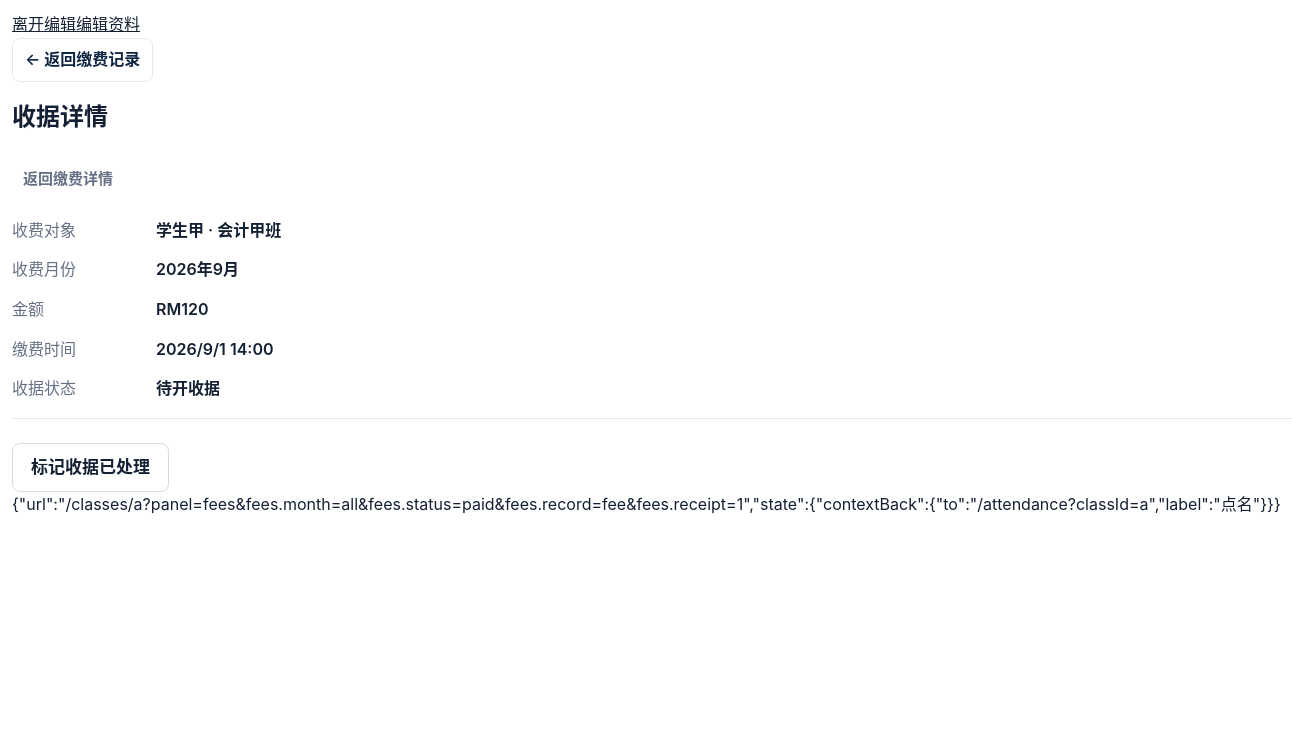
Test: restores the classes URL, filters and source after a real edit/save, and refreshes receipt identity without generation
The image size is (1292, 732).
expect the text "学生甲 · 会计甲班" is shown: met, box [156,220,281,240]
Click the link "编辑资料" at (108, 24), box [76,14,140,34]
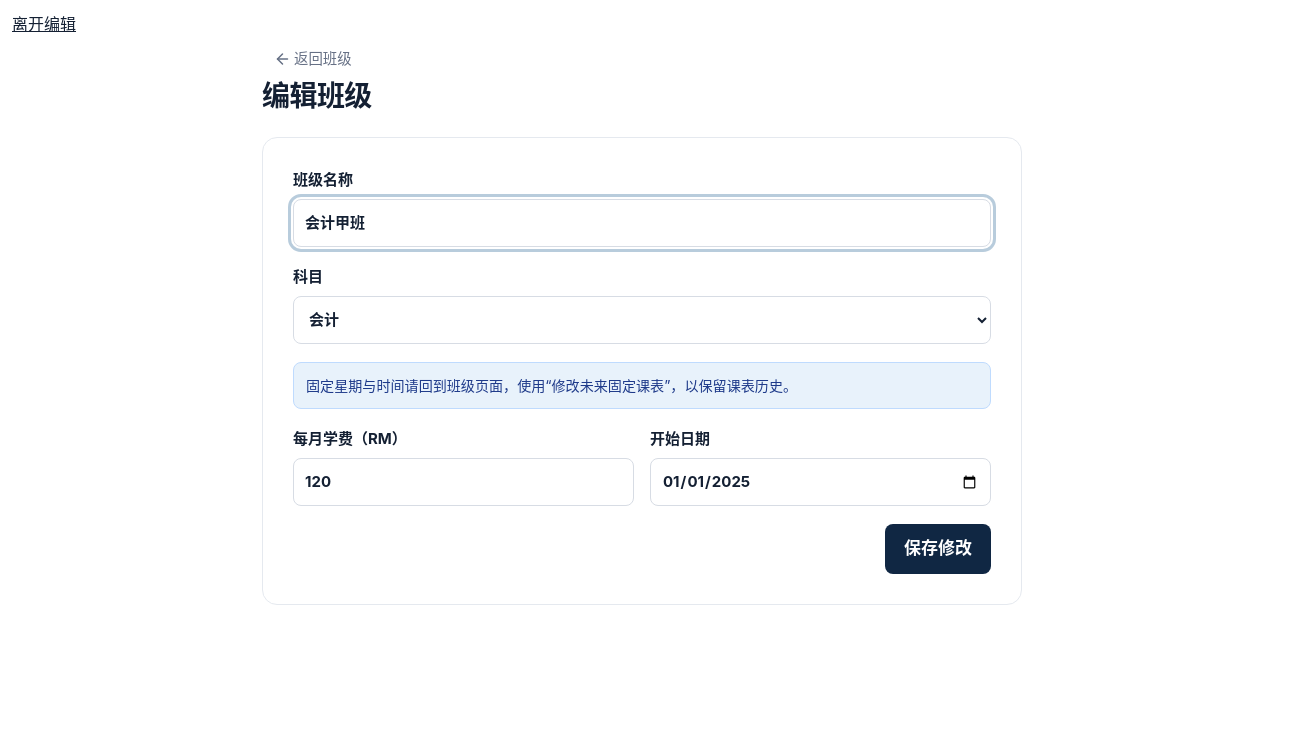
Replace the text in the field labelled "班级名称" with "新身份" at (642, 223), box [293,199,991,247]
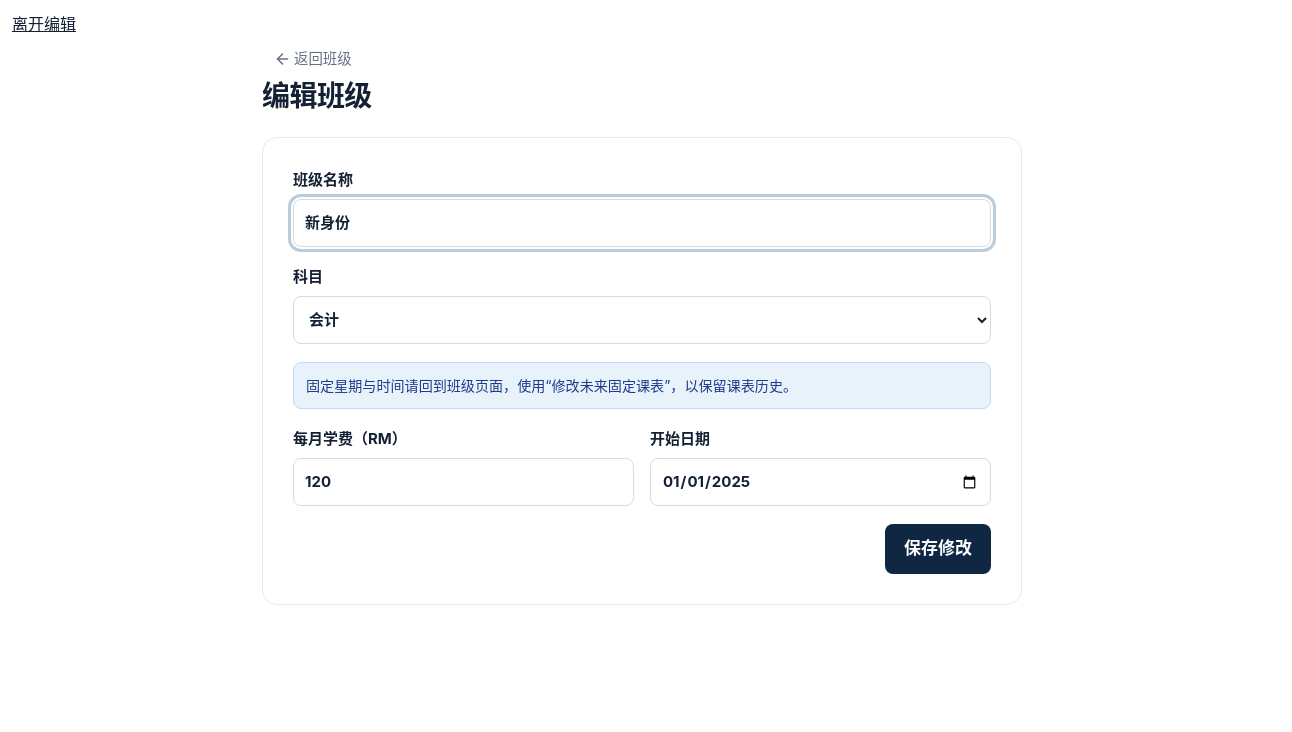
Click the button "保存修改" at (938, 549), box [885,524,991,574]
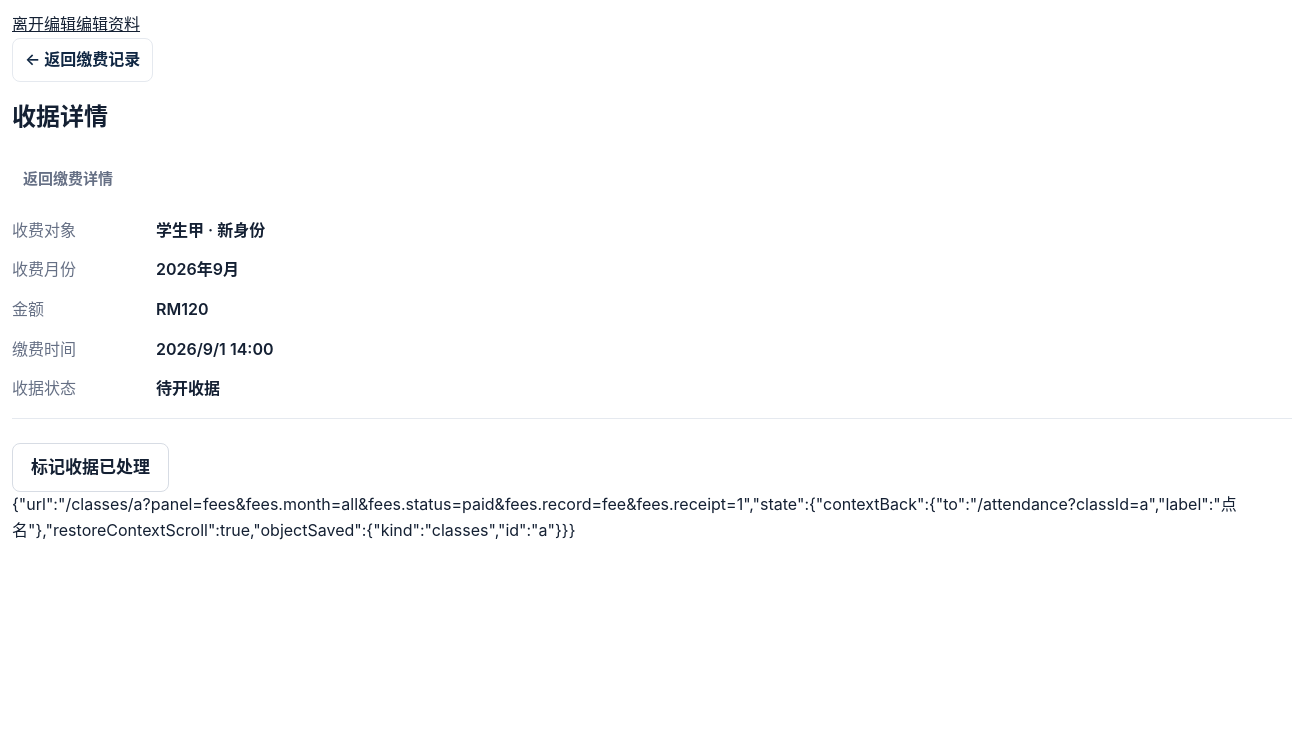
expect the text "学生甲 · 新身份" is shown: met, box [156,220,265,240]
expect the text with test id "location" shows "/attendance?classId=a": met, box [12,494,1237,540]
expect the text with test id "location" shows "restoreContextScroll": met, box [12,494,1237,540]
